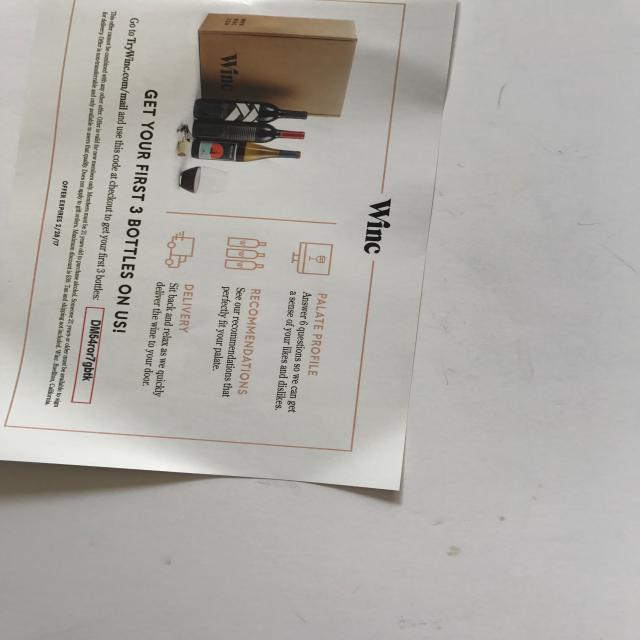paper: (2, 0, 460, 492)
